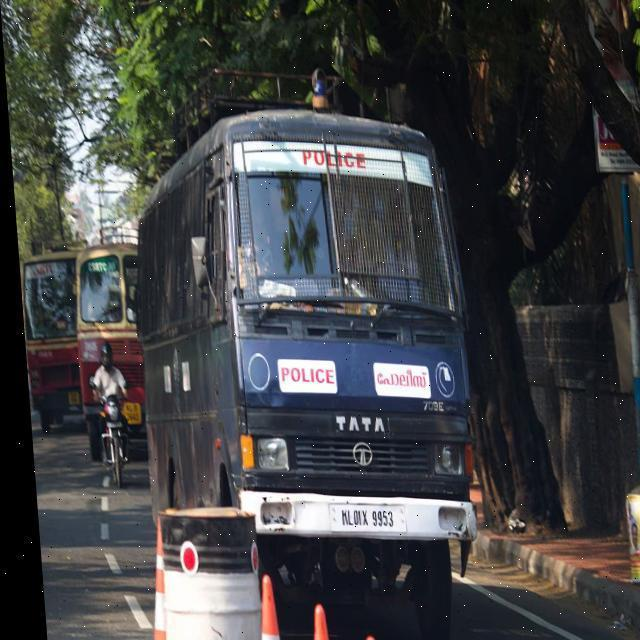Ambulance: (129, 69, 468, 640)
